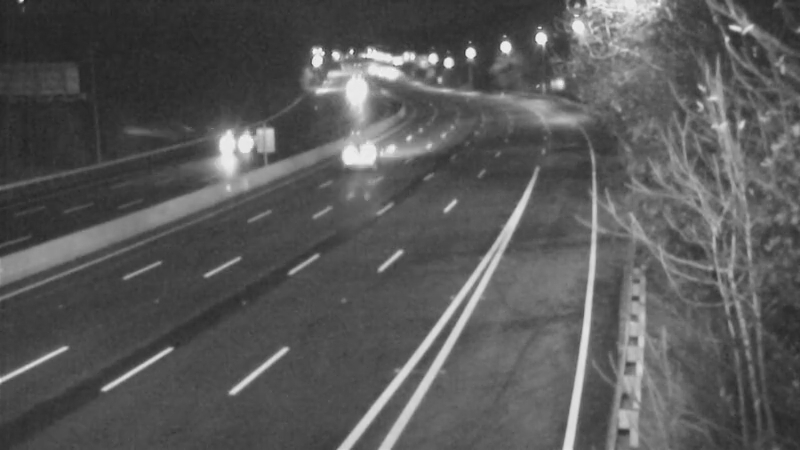vehicle: (327, 117, 407, 197), (202, 122, 252, 172), (327, 65, 377, 115)
